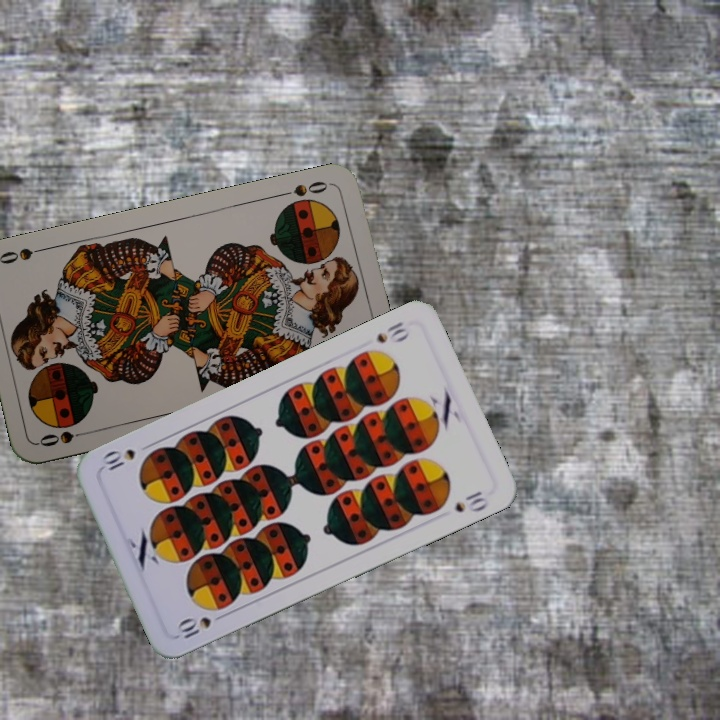S10: (173, 609, 229, 642), (372, 317, 412, 346)
SO: (35, 427, 94, 450), (276, 177, 335, 199)
